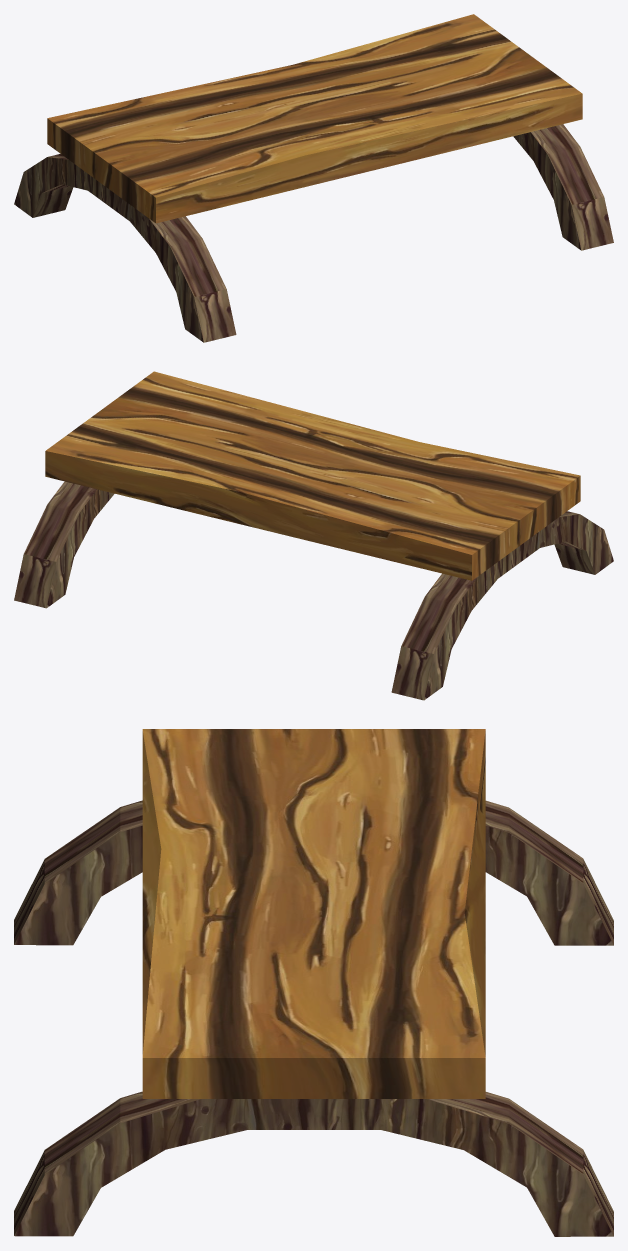
The model's file is Bench.fbx.
3 renders of one model, top to bottom at view 1: azimuth 30°, elevation 25°; view 2: azimuth 150°, elevation 25°; view 3: azimuth 270°, elevation 25°, orthographic. The views are drawn at different scales.
Visible parts, largest first — view 1: Main, Legs; view 2: Main, Legs; view 3: Main, Legs.
Boxes of the visible parts, box(x1,y1,x2,y2) form: Main: box(47, 14, 582, 223); Legs: box(14, 124, 613, 342); Main: box(45, 371, 580, 580); Legs: box(14, 481, 613, 700); Main: box(142, 729, 485, 1098); Legs: box(14, 800, 613, 1236).
Bounding box in the file's own units: 260 × 68.38 × 200.
